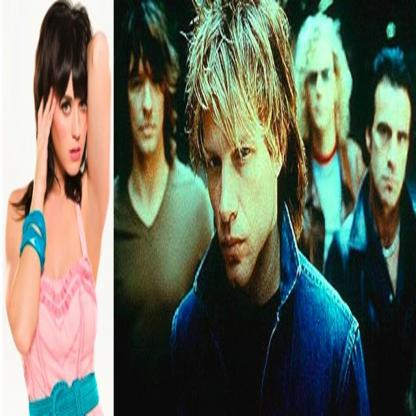face: (199, 92, 275, 277), (372, 89, 412, 208), (52, 57, 90, 174), (128, 42, 167, 148), (305, 44, 337, 128)
